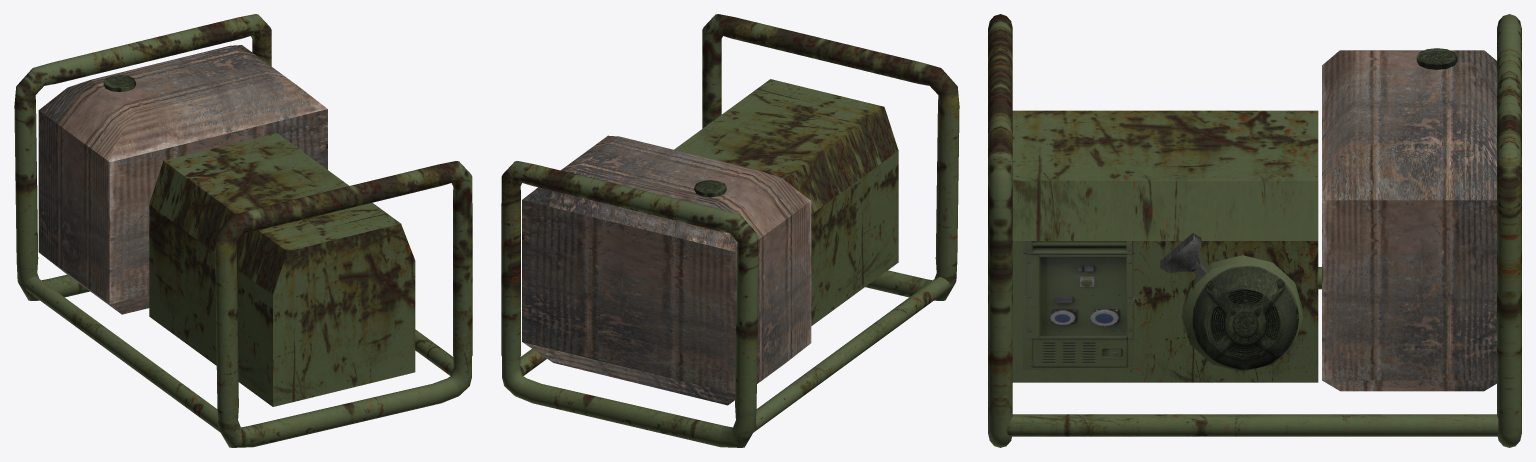
The model's file is Field_generator.fbx.
3 renders of one model, left to right at view 1: azimuth 30°, elevation 25°; view 2: azimuth 150°, elevation 25°; view 3: azimuth 270°, elevation 25°, orthographic. The views are drawn at different scales.
Parts seen in each view (by area): view 1: tank; view 2: tank; view 3: tank.
Boxes of the visible parts, left/top/right/bottom form: tank: left=14, top=14, right=472, bottom=447; tank: left=501, top=14, right=959, bottom=447; tank: left=988, top=14, right=1521, bottom=447.
Bounding box in the file's own units: 62.61 × 55.85 × 89.56.
